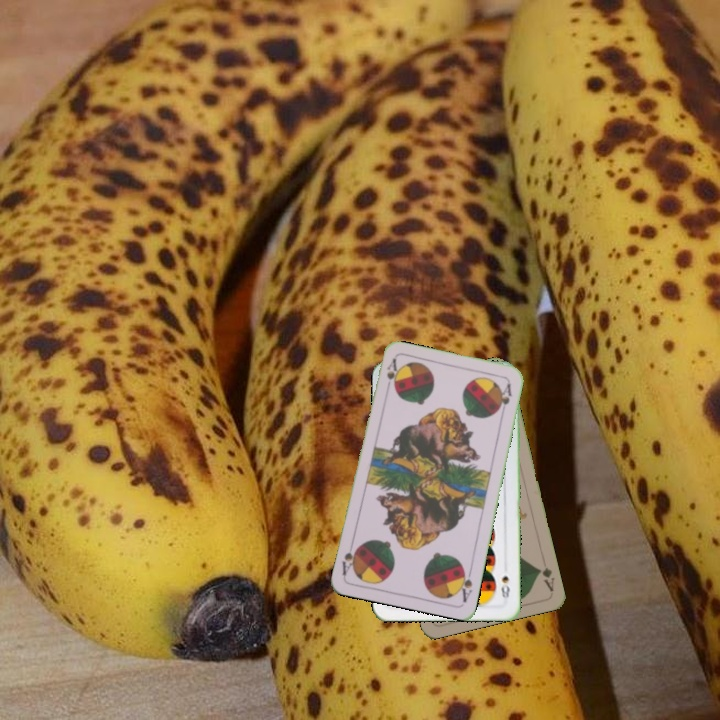GA: (534, 563, 557, 594)
S8: (497, 572, 512, 601)
SA: (455, 563, 475, 604), (382, 355, 399, 395)
